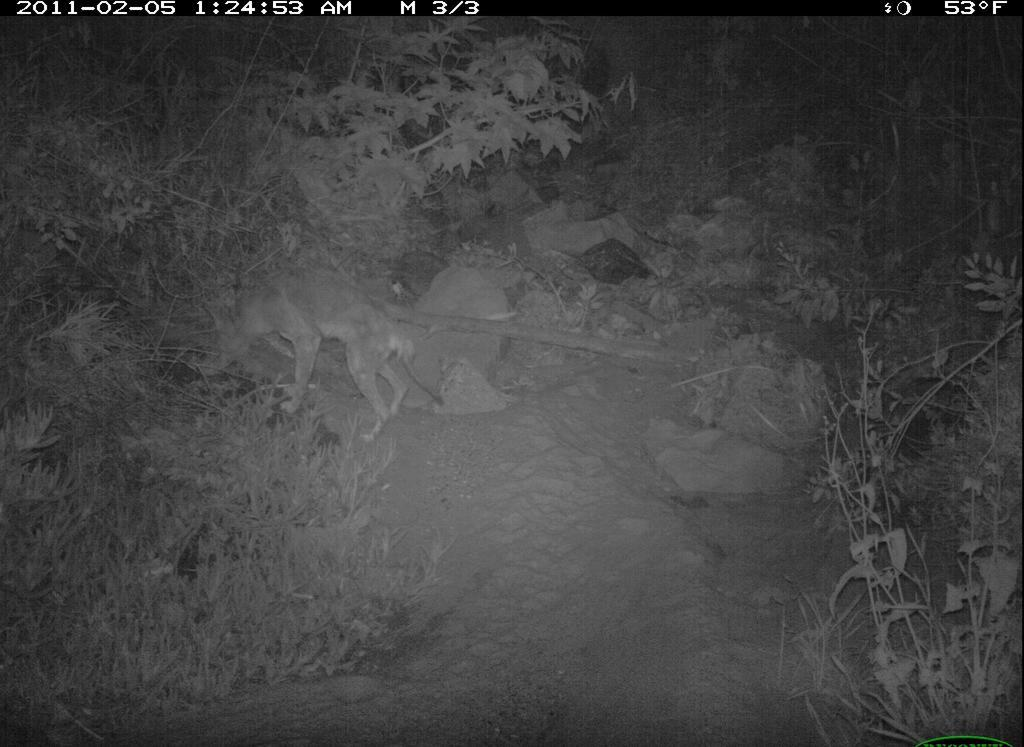coyote: (204, 273, 448, 440)
